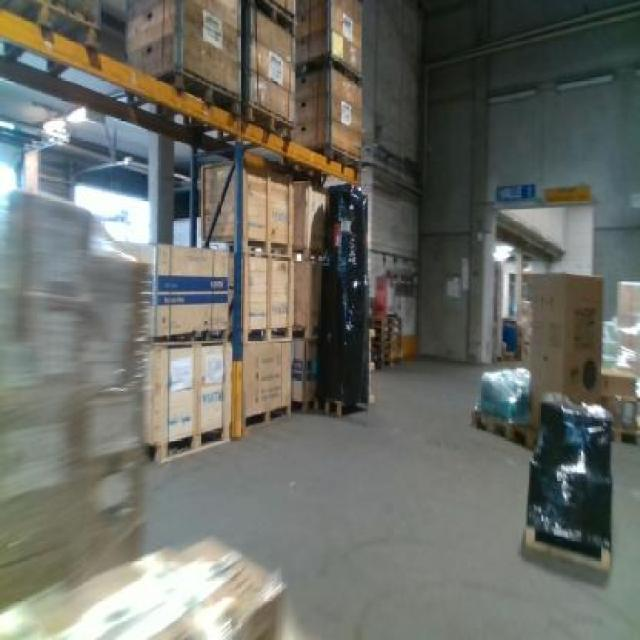pallet: (160, 62, 243, 123), (142, 419, 235, 472), (234, 103, 301, 145), (236, 401, 296, 437), (232, 233, 299, 265), (237, 324, 304, 348)
